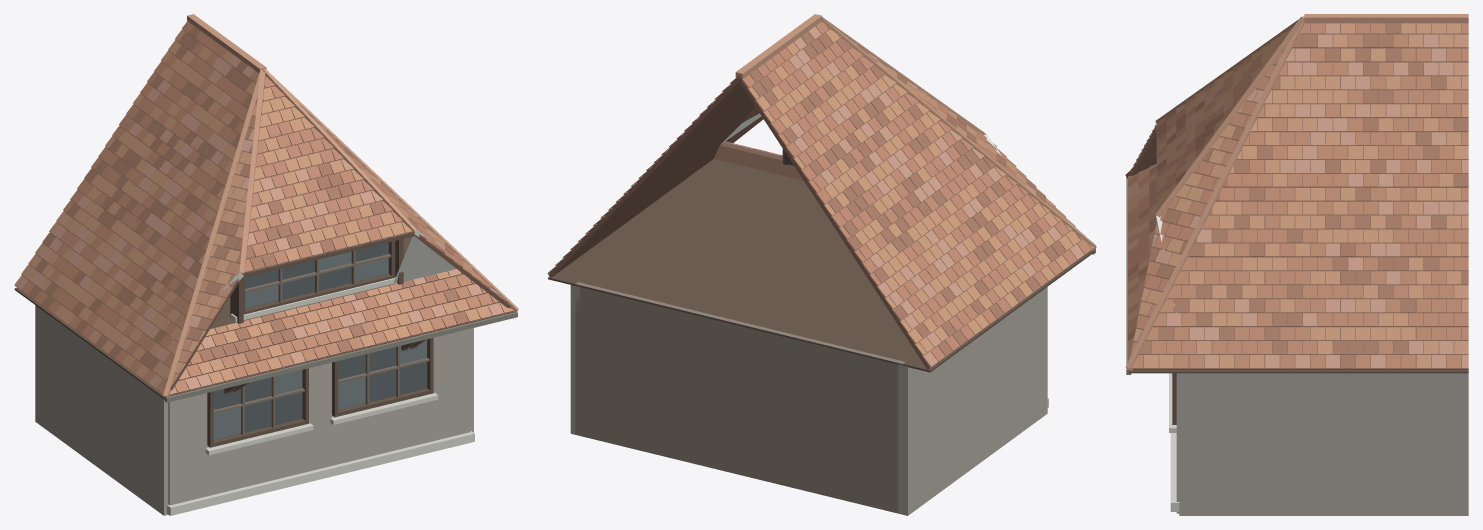
The model's file is fenyang-west-roof-far.glb.
3 views of the same model, side by side, from view 1: azimuth 30°, elevation 25°; view 2: azimuth 150°, elevation 25°; view 3: azimuth 270°, elevation 25° (orthographic). The views are drawn at different scales.
Parts seen in each view (by area): view 1: 汾阳路152–154号并立花园住宅西端折坡瓦檐与阁窗; view 2: 汾阳路152–154号并立花园住宅西端折坡瓦檐与阁窗; view 3: 汾阳路152–154号并立花园住宅西端折坡瓦檐与阁窗.
Boxes of the visible parts, x1,y1,x2,y2 form: 汾阳路152–154号并立花园住宅西端折坡瓦檐与阁窗: (14,14,518,515); 汾阳路152–154号并立花园住宅西端折坡瓦檐与阁窗: (547,14,1096,515); 汾阳路152–154号并立花园住宅西端折坡瓦檐与阁窗: (1125,14,1468,515).
Size of the model in its own units: 9.65 by 9.57 by 7.17.
